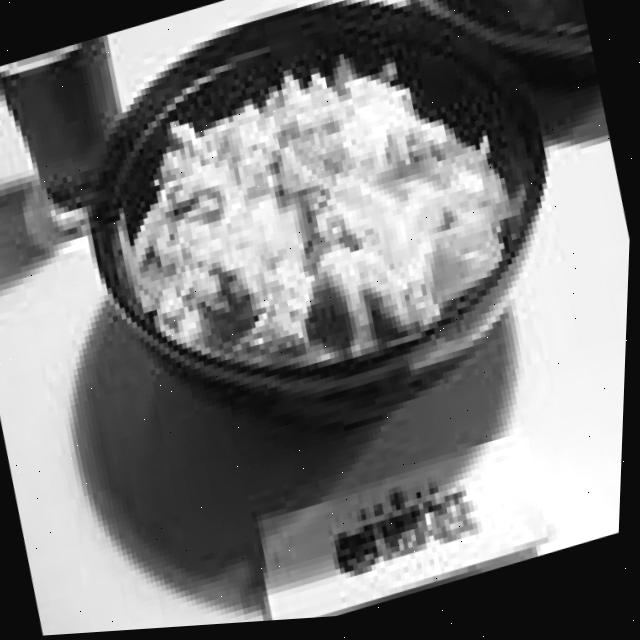米饭主食: (48, 0, 611, 490)
